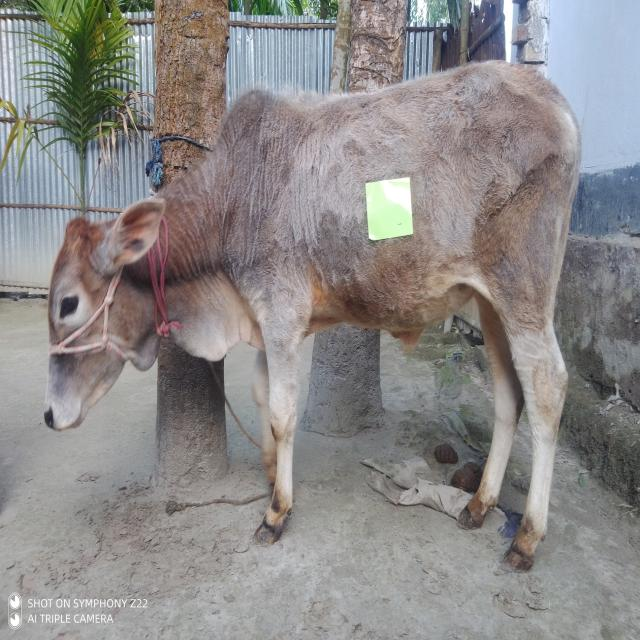badan_sapi: (245, 95, 564, 334)
sapi: (43, 58, 582, 574)
